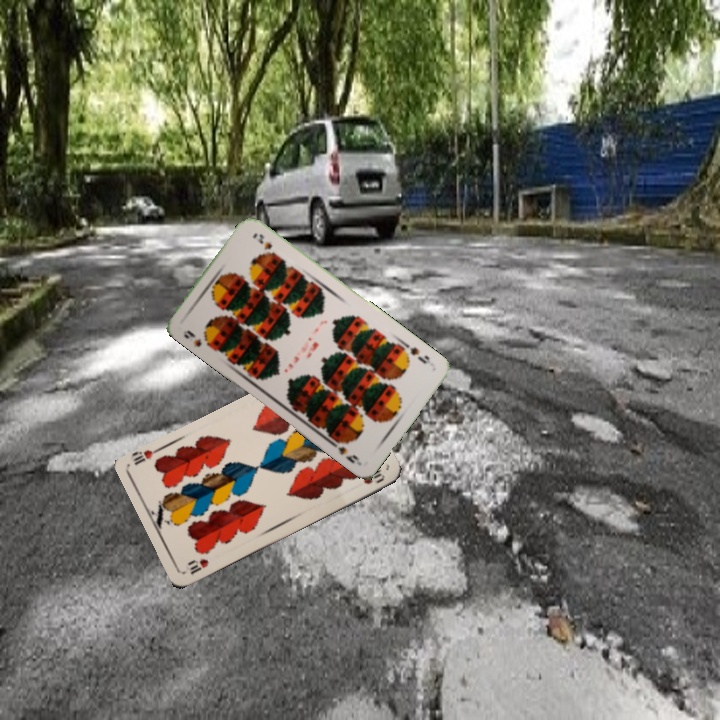H10: (184, 554, 211, 577)
S9: (179, 326, 214, 350), (406, 343, 433, 367)
